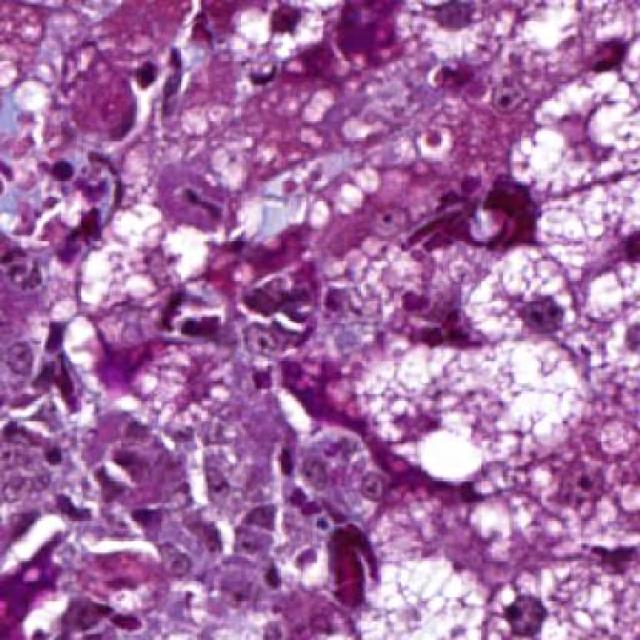ballooning: (349, 323, 593, 491), (504, 69, 640, 197), (480, 554, 626, 636)
